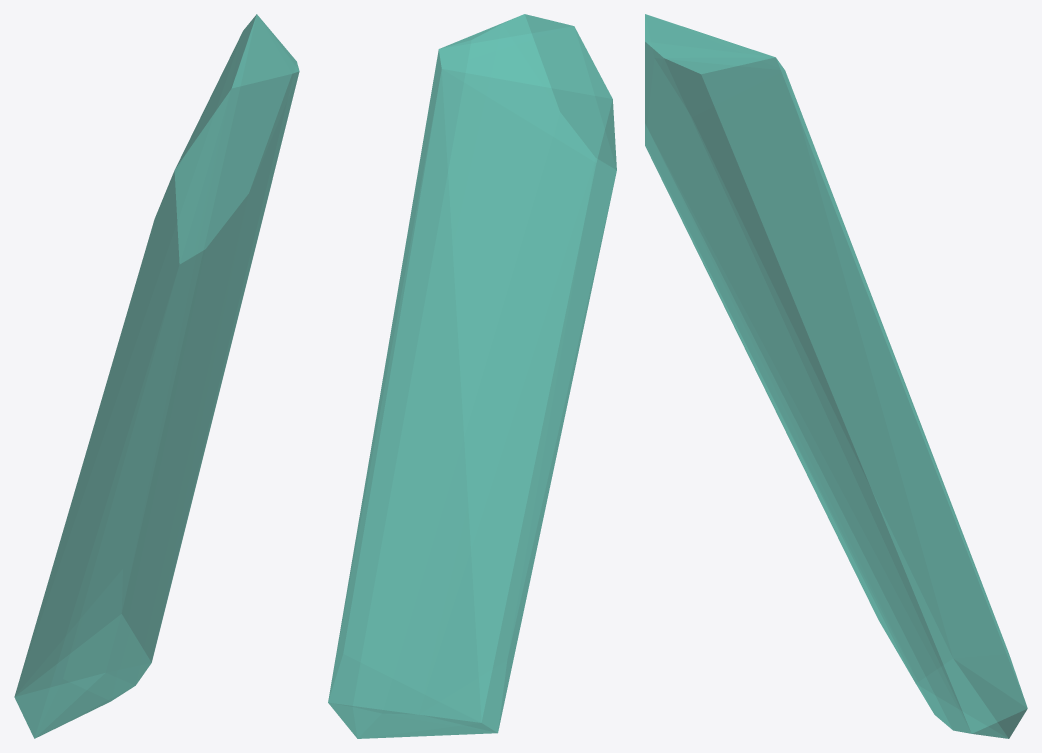
3 views of the same model, side by side, from view 1: azimuth 30°, elevation 25°; view 2: azimuth 150°, elevation 25°; view 3: azimuth 270°, elevation 25° (orthographic). The views are drawn at different scales.
Parts seen in each view (by area): view 1: Shape_IndexedFaceSet.016_Shape_IndexedFaceSet.11808; view 2: Shape_IndexedFaceSet.016_Shape_IndexedFaceSet.11808; view 3: Shape_IndexedFaceSet.016_Shape_IndexedFaceSet.11808.
Boxes of the visible parts, <box> form: Shape_IndexedFaceSet.016_Shape_IndexedFaceSet.11808: <box>14,14,299,738</box>; Shape_IndexedFaceSet.016_Shape_IndexedFaceSet.11808: <box>328,14,616,738</box>; Shape_IndexedFaceSet.016_Shape_IndexedFaceSet.11808: <box>645,14,1027,738</box>.
Size of the model in its own units: 0.0856 by 0.4129 by 0.2065.
